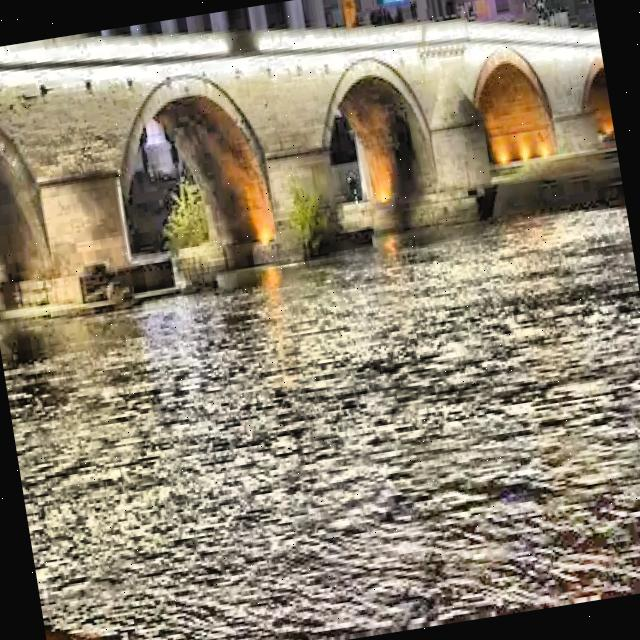stone bridge: (0, 0, 629, 328)
